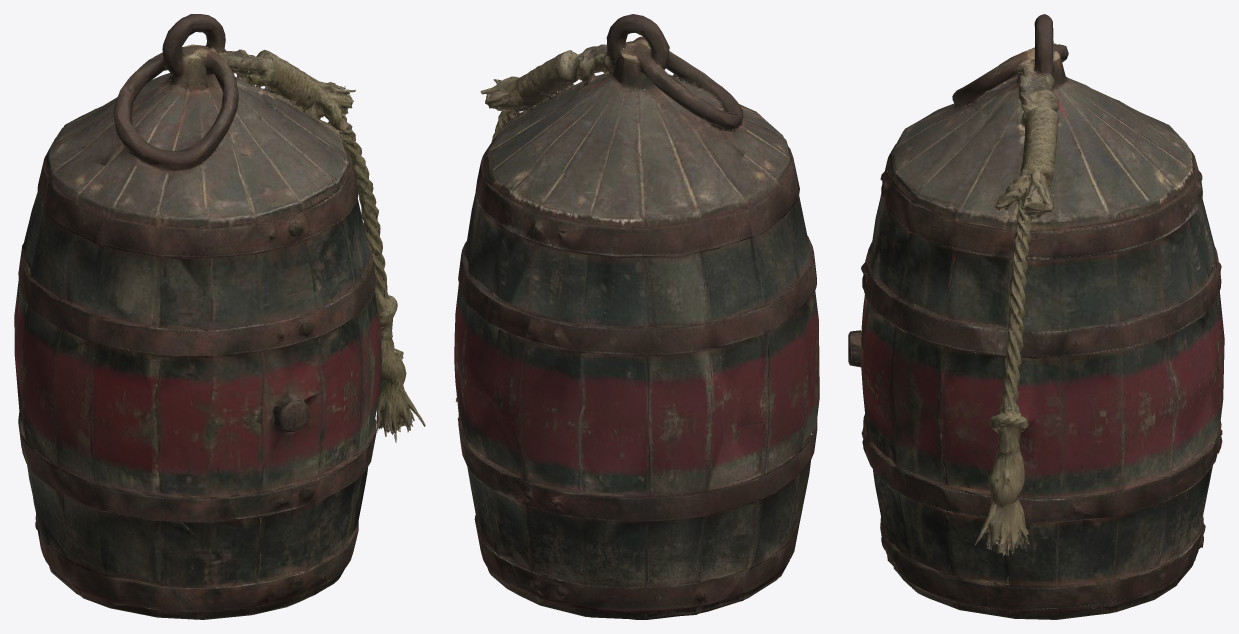
Rendered from buoy.glb.
3 views of the same model, side by side, from view 1: azimuth 30°, elevation 25°; view 2: azimuth 150°, elevation 25°; view 3: azimuth 270°, elevation 25° (orthographic).
Parts seen in each view (by area): view 1: Mesh_0; view 2: Mesh_0; view 3: Mesh_0.
Part boxes in pixels (x1=…): Mesh_0: x1=14, y1=14, x2=425, y2=619; Mesh_0: x1=454, y1=14, x2=819, y2=619; Mesh_0: x1=848, y1=14, x2=1224, y2=619.
Bounding box in the file's own units: 1.3 × 1.9 × 1.2.
1 material, 1 textured.
